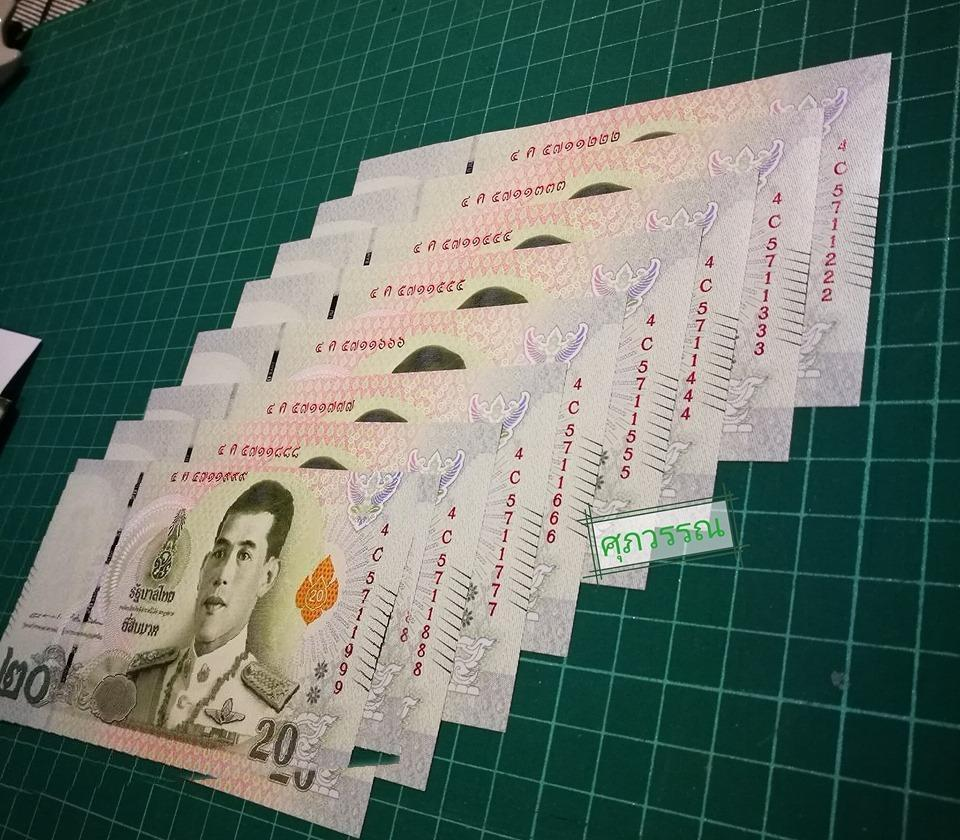20BahtTai: (0, 472, 421, 798)
